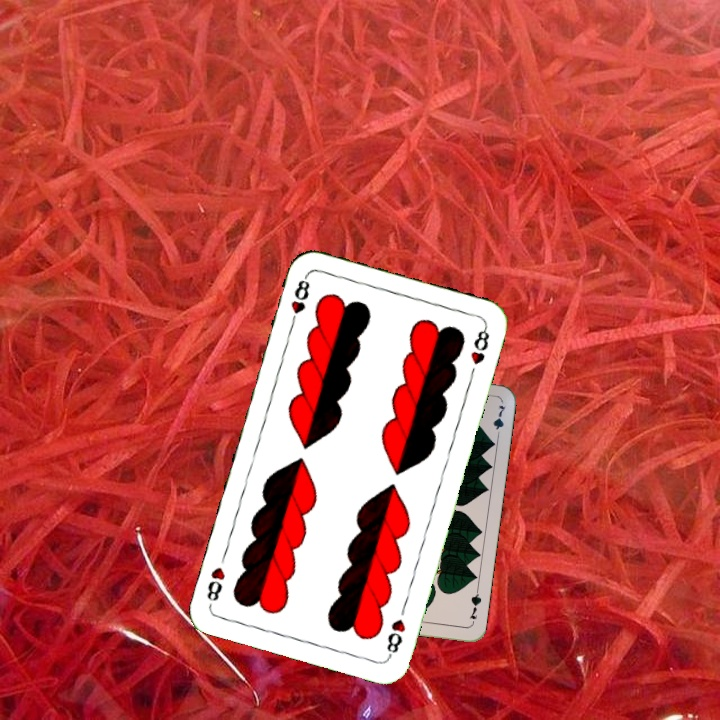G7: (466, 586, 484, 627)
H8: (286, 271, 313, 330), (382, 615, 408, 660)
